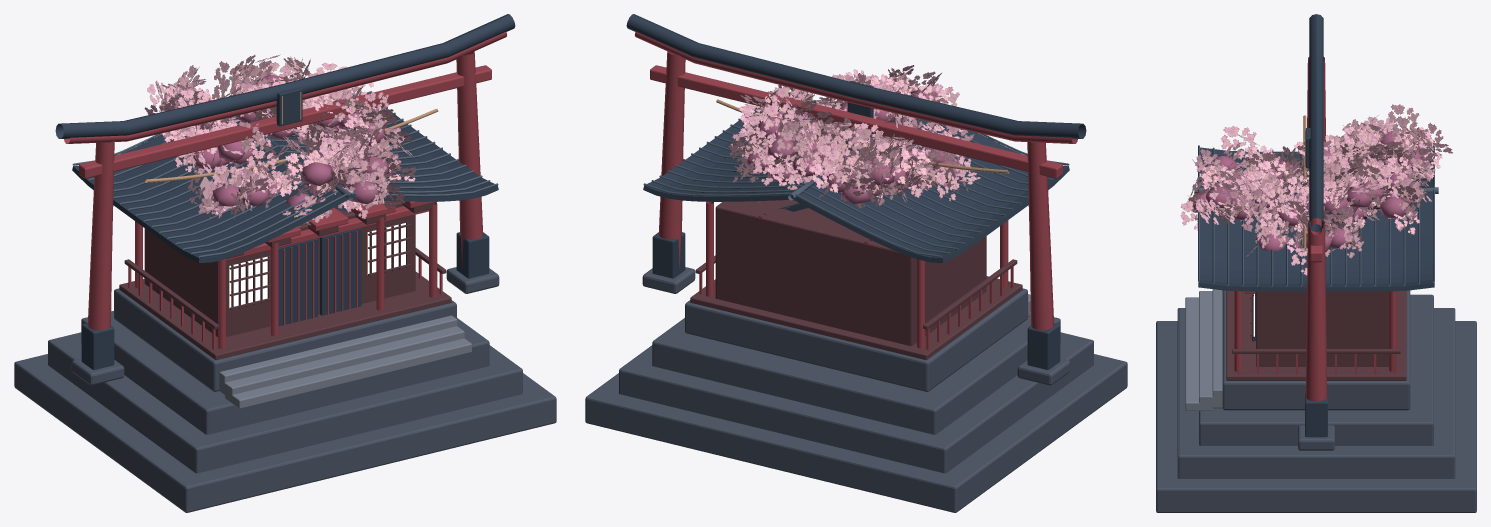
File: sakura-garden-CtIdoX8N.glb
3 views of the same model, side by side, from view 1: azimuth 30°, elevation 25°; view 2: azimuth 150°, elevation 25°; view 3: azimuth 270°, elevation 25° (orthographic). The views are drawn at different scales.
Visible parts, largest first — view 1: Sakura_Shrine_Mesh, Sakura_Torii_Mesh, Sakura_Tree_B_Mesh, Sakura_Tree_A_Mesh; view 2: Sakura_Shrine_Mesh, Sakura_Torii_Mesh, Sakura_Tree_B_Mesh, Sakura_Tree_A_Mesh; view 3: Sakura_Shrine_Mesh, Sakura_Tree_B_Mesh, Sakura_Tree_A_Mesh, Sakura_Torii_Mesh.
Part boxes in pixels (<box>): Sakura_Shrine_Mesh: <box>14,91,556,512</box>; Sakura_Torii_Mesh: <box>55,14,515,385</box>; Sakura_Tree_B_Mesh: <box>159,54,416,219</box>; Sakura_Tree_A_Mesh: <box>144,61,411,228</box>; Sakura_Shrine_Mesh: <box>585,91,1127,512</box>; Sakura_Torii_Mesh: <box>626,14,1086,385</box>; Sakura_Tree_B_Mesh: <box>728,65,980,198</box>; Sakura_Tree_A_Mesh: <box>740,72,969,208</box>; Sakura_Shrine_Mesh: <box>1156,145,1476,512</box>; Sakura_Tree_B_Mesh: <box>1180,116,1452,275</box>; Sakura_Tree_A_Mesh: <box>1187,104,1443,243</box>; Sakura_Torii_Mesh: <box>1298,14,1334,450</box>.
Bounding box in the file's own units: 12.47 × 8.84 × 8.2.
Materials: 13 (2 with a texture image).
